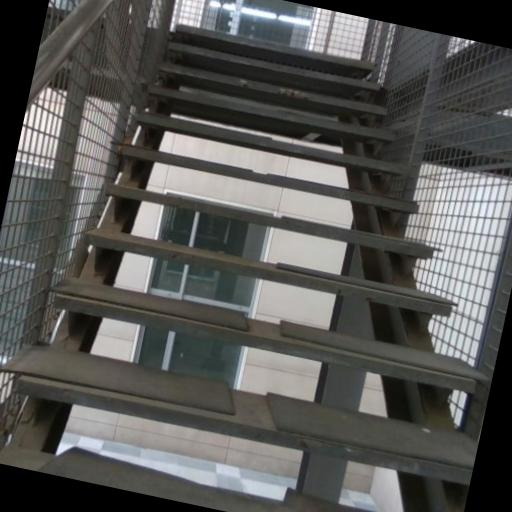stairs: (0, 27, 487, 511)
